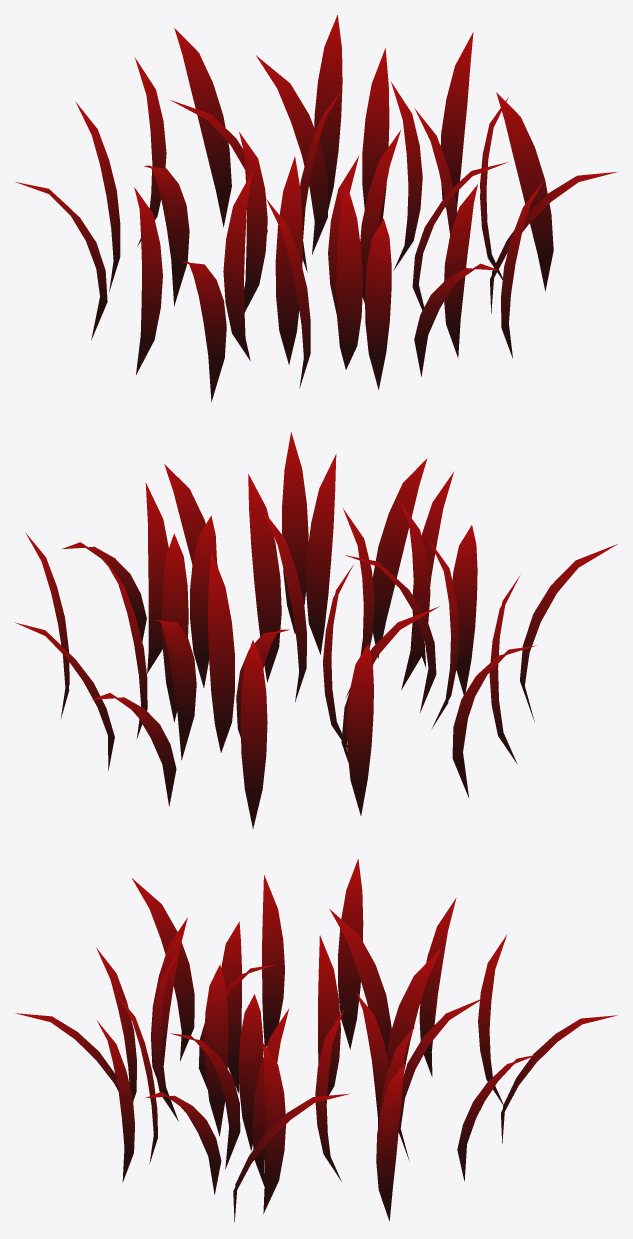
The model's file is Grass.fbx.
3 views of the same model, one above another, from view 1: azimuth 30°, elevation 25°; view 2: azimuth 150°, elevation 25°; view 3: azimuth 270°, elevation 25° (orthographic). The views are drawn at different scales.
Visible parts, largest first — view 1: Plane.001; view 2: Plane.001; view 3: Plane.001.
Boxes of the visible parts, box(x1,y1,x2,y2) form: Plane.001: box(15, 15, 618, 402); Plane.001: box(15, 432, 617, 828); Plane.001: box(14, 859, 617, 1221).
Bounding box in the file's own units: 3.23 × 1.2 × 3.78.
